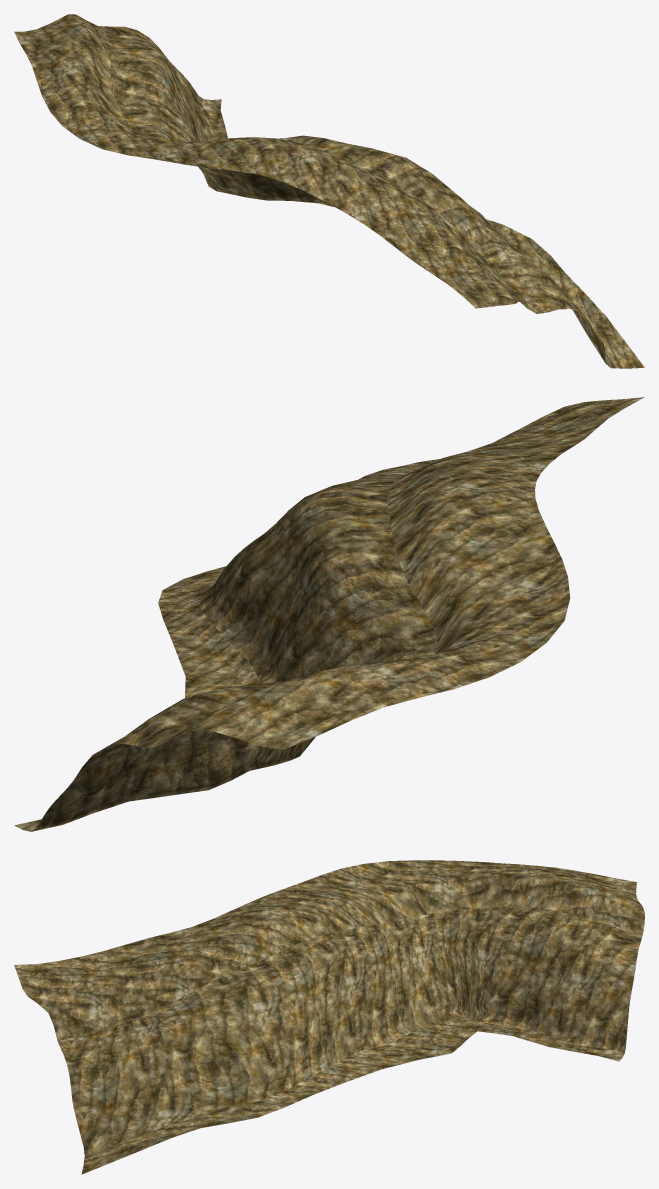
The model's file is RM_PLAYSURFACE_FINAL_MESH06.fbx.
3 renders of one model, top to bottom at view 1: azimuth 30°, elevation 25°; view 2: azimuth 150°, elevation 25°; view 3: azimuth 270°, elevation 25°, orthographic. The views are drawn at different scales.
Parts seen in each view (by area): view 1: RM_PLAYSURFACE_FINAL_MESH06; view 2: RM_PLAYSURFACE_FINAL_MESH06; view 3: RM_PLAYSURFACE_FINAL_MESH06.
Part boxes in pixels (x1=…): RM_PLAYSURFACE_FINAL_MESH06: x1=14, y1=14, x2=644, y2=368; RM_PLAYSURFACE_FINAL_MESH06: x1=14, y1=397, x2=644, y2=831; RM_PLAYSURFACE_FINAL_MESH06: x1=14, y1=860, x2=644, y2=1174.
Bounding box in the file's own units: 262730 × 131004 × 441005.
Materials: 2 (2 with a texture image).
